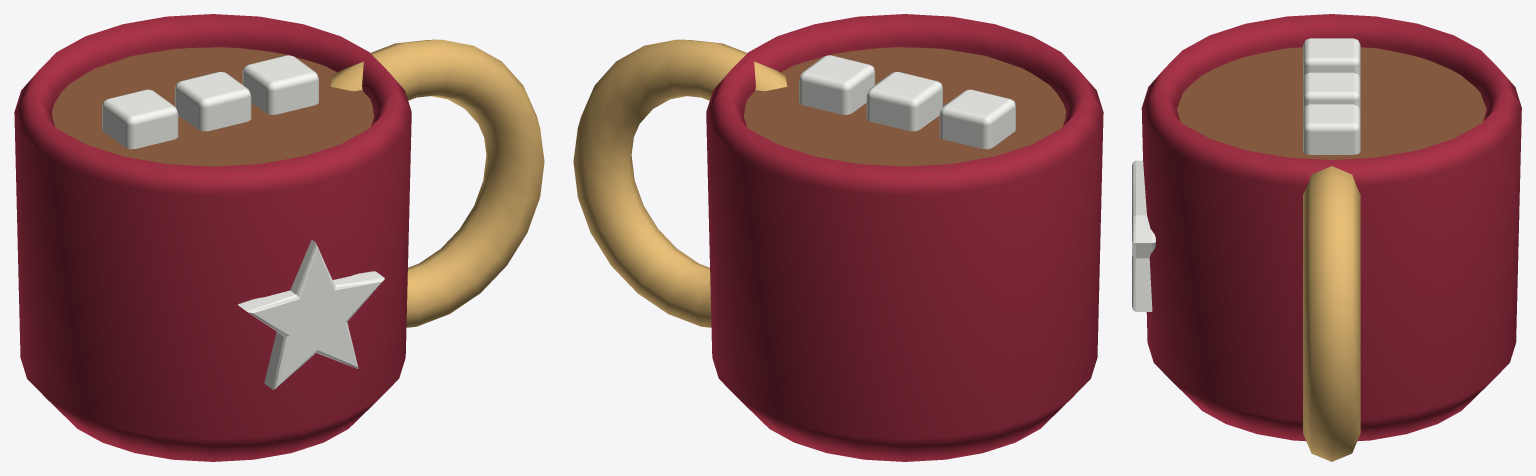
The model's file is christmas-storybook-marshmallow-cocoa-4b885a59__18762.glb.
3 views of the same model, side by side, from view 1: azimuth 30°, elevation 25°; view 2: azimuth 150°, elevation 25°; view 3: azimuth 270°, elevation 25° (orthographic). The views are drawn at different scales.
Parts seen in each view (by area): view 1: berry, brass, cream, oak; view 2: berry, brass, oak, cream; view 3: berry, oak, brass, cream.
Part boxes in pixels (left/top/right/bottom): berry: left=14, top=14, right=411, bottom=461; brass: left=330, top=39, right=544, bottom=327; cream: left=102, top=55, right=384, bottom=389; oak: left=52, top=47, right=373, bottom=166; berry: left=706, top=14, right=1103, bottom=461; brass: left=573, top=39, right=787, bottom=327; oak: left=744, top=47, right=1065, bottom=166; cream: left=799, top=55, right=1015, bottom=149; berry: left=1141, top=14, right=1521, bottom=441; oak: left=1177, top=47, right=1486, bottom=159; brass: left=1303, top=166, right=1360, bottom=461; cream: left=1132, top=38, right=1360, bottom=311.
Bounding box in the file's own units: 0.48 × 0.285 × 0.3384.
